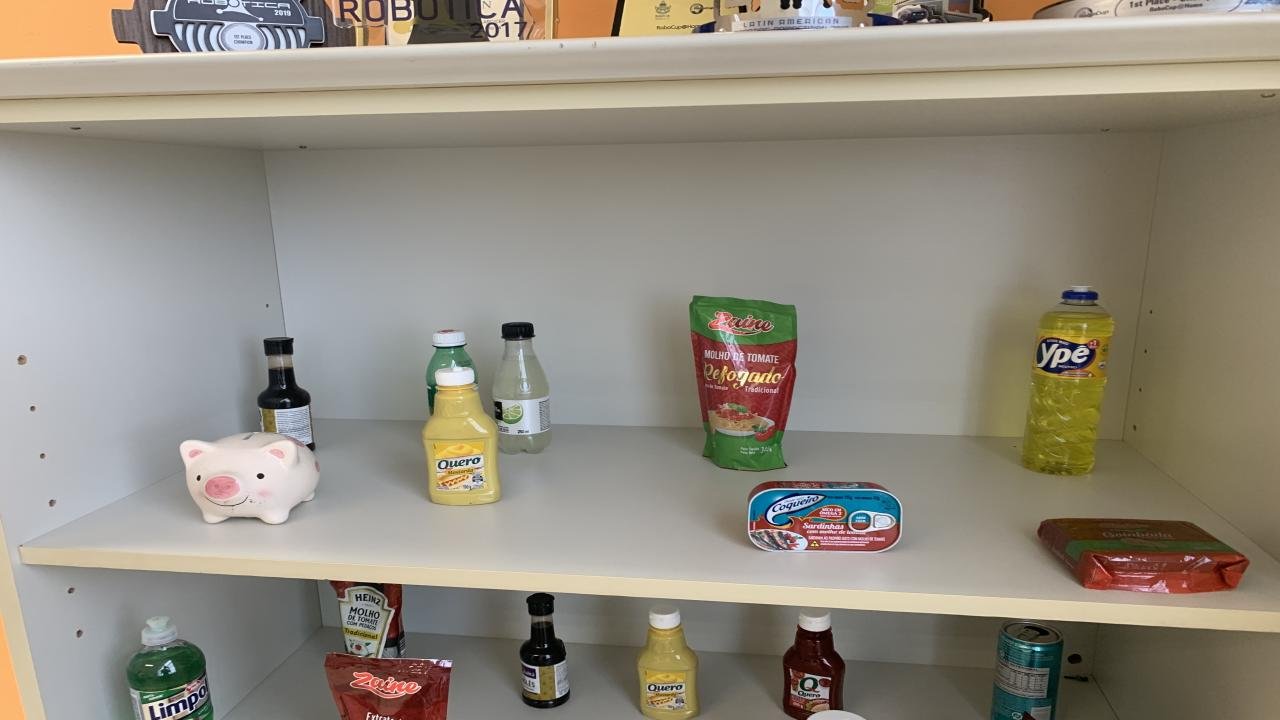Detergent-Cleanup_Items: (1022, 287, 1115, 474), (128, 617, 212, 720)
English_Sauce-Pantry_Items: (258, 338, 315, 450), (520, 592, 570, 709)
Guarana-Drinks: (425, 330, 475, 414)
Guava-Snacks: (1038, 518, 1250, 592)
Ketchup-Pantry_Items: (782, 608, 845, 718)
Mustard-Pantry_Items: (422, 368, 500, 504), (638, 604, 700, 720)
Pig_Safe-Miscellaneous: (180, 433, 320, 525)
Soda-Drinks: (492, 322, 552, 454)
Tea-Drinks: (990, 621, 1065, 720)
Tomato_Sauce-Pantry_Items: (690, 296, 798, 471), (325, 652, 452, 720), (330, 581, 405, 658)
Tuna_Can-Pantry_Items: (748, 482, 902, 553)
